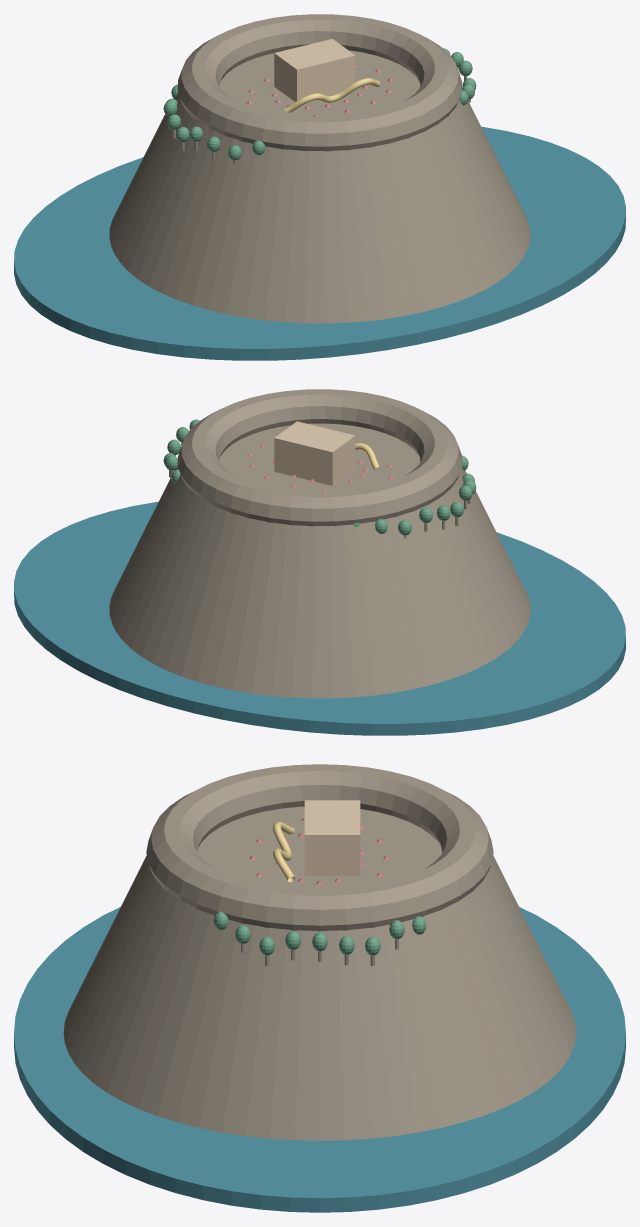
File: amazon-lily.glb
3 views of the same model, one above another, from view 1: azimuth 30°, elevation 25°; view 2: azimuth 150°, elevation 25°; view 3: azimuth 270°, elevation 25° (orthographic). The views are drawn at different scales.
Parts seen in each view (by area): view 1: Amazon Lily mountain, Calm Belt stage, Mountain bowl rim, Kuja Palace, Kuja serpent sculpture; view 2: Amazon Lily mountain, Calm Belt stage, Mountain bowl rim, Kuja Palace; view 3: Amazon Lily mountain, Calm Belt stage, Mountain bowl rim, Kuja Palace, Kuja serpent sculpture.
Boxes of the visible parts, box(x1,y1,x2,y2) form: Amazon Lily mountain: box(109, 50, 530, 323); Calm Belt stage: box(14, 126, 625, 360); Mountain bowl rim: box(177, 14, 462, 151); Kuja Palace: box(274, 39, 355, 101); Kuja serpent sculpture: box(284, 78, 380, 112); Amazon Lily mountain: box(109, 423, 530, 698); Calm Belt stage: box(14, 501, 625, 735); Mountain bowl rim: box(177, 389, 462, 526); Kuja Palace: box(274, 421, 355, 485); Amazon Lily mountain: box(63, 806, 576, 1140); Calm Belt stage: box(14, 907, 625, 1212); Mountain bowl rim: box(146, 764, 493, 931); Kuja Palace: box(304, 800, 360, 875); Kuja serpent sculpture: box(273, 821, 295, 882).
Size of the model in its own units: 22 by 7.09 by 17.16.
